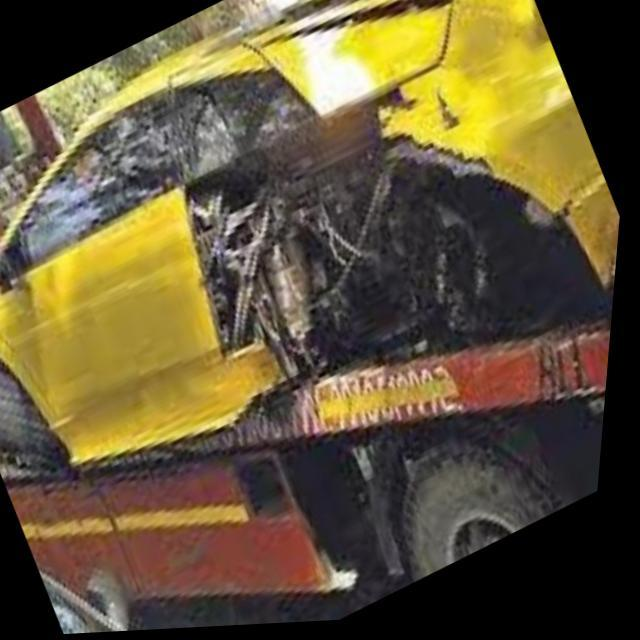no part: (190, 41, 621, 393)
